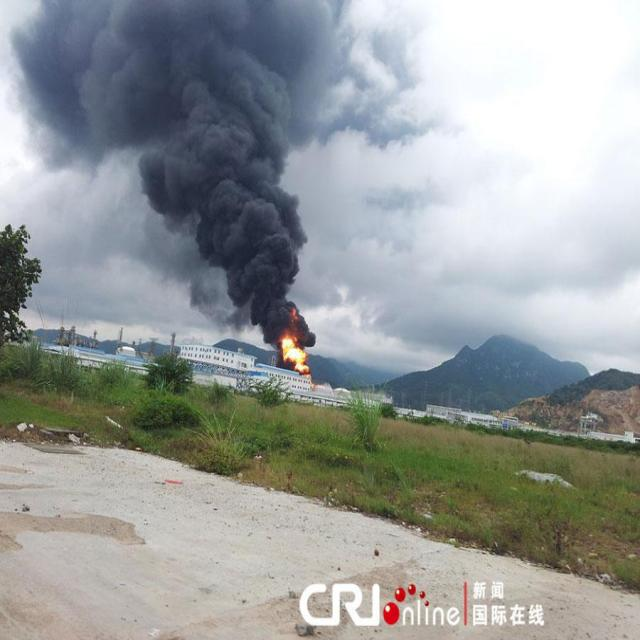fire: (276, 325, 311, 382)
smoke: (47, 6, 330, 159), (145, 147, 316, 311)
